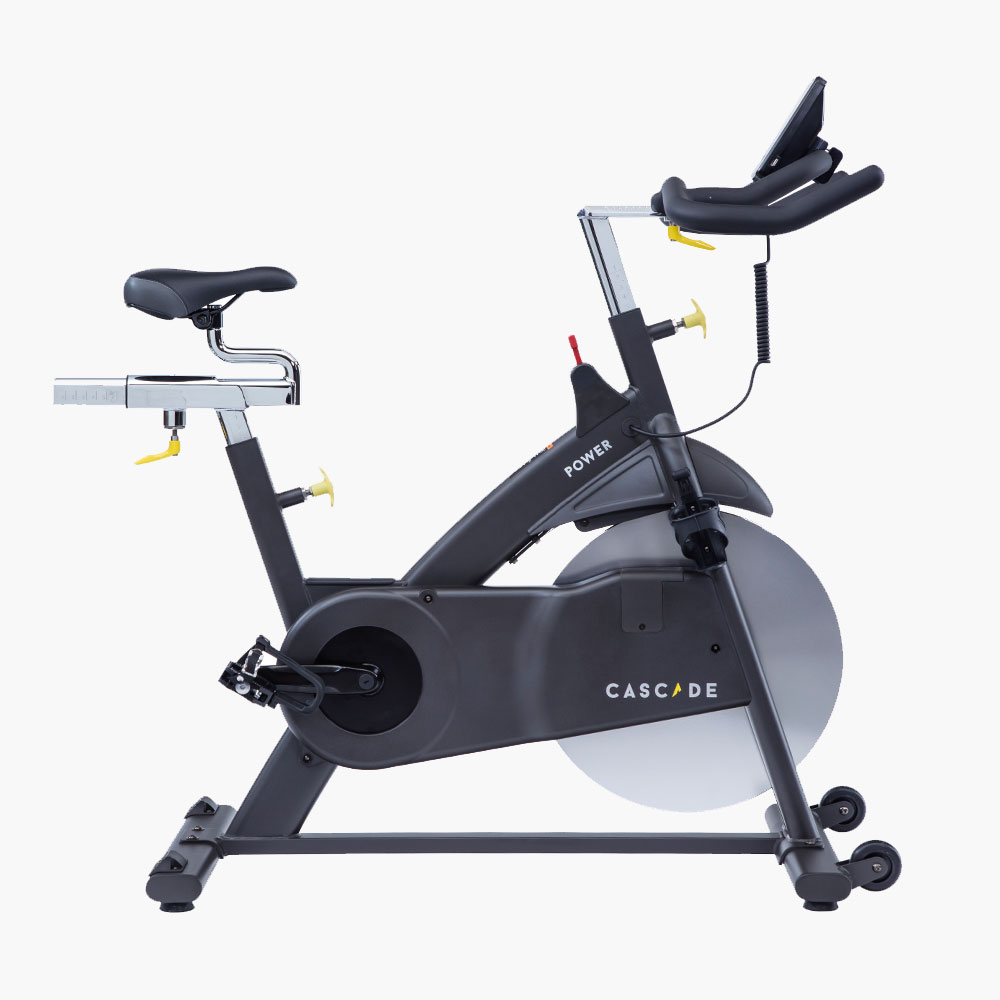gym_bike: (65, 80, 928, 905)
